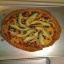pizza: (1, 9, 61, 50)
